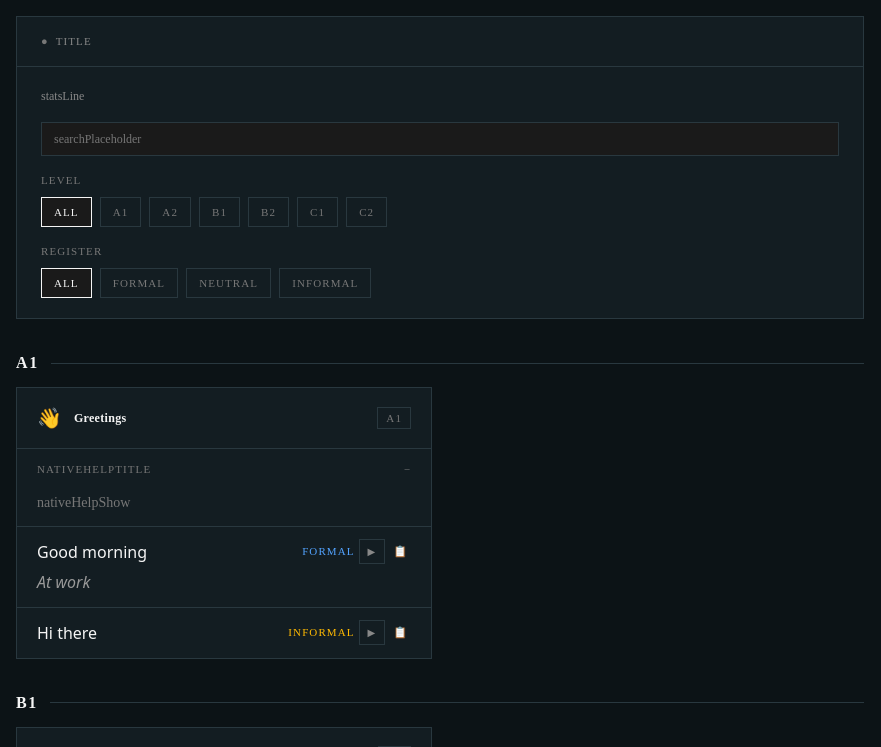
Scenario: PhrasebookPage › offers retry when native help fails, then displays the successful retry
Expected: the text "Greetings" is shown, left=74, top=411, right=126, bottom=425
Click the button "nativeHelpShow": (84, 502) left=37, top=492, right=130, bottom=512
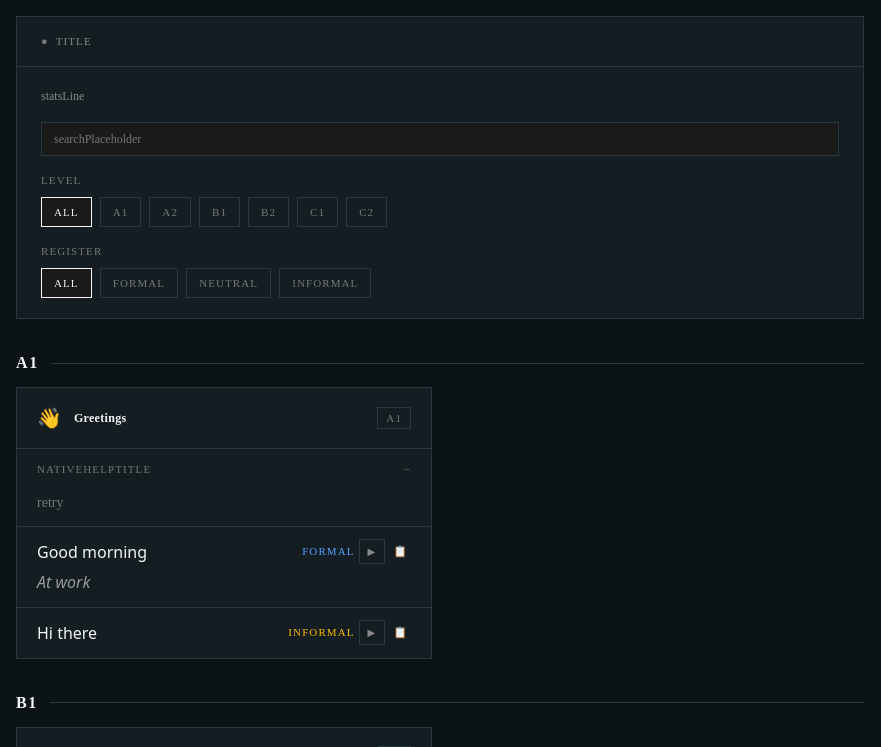
Click the button "retry": (50, 502) left=37, top=492, right=63, bottom=512
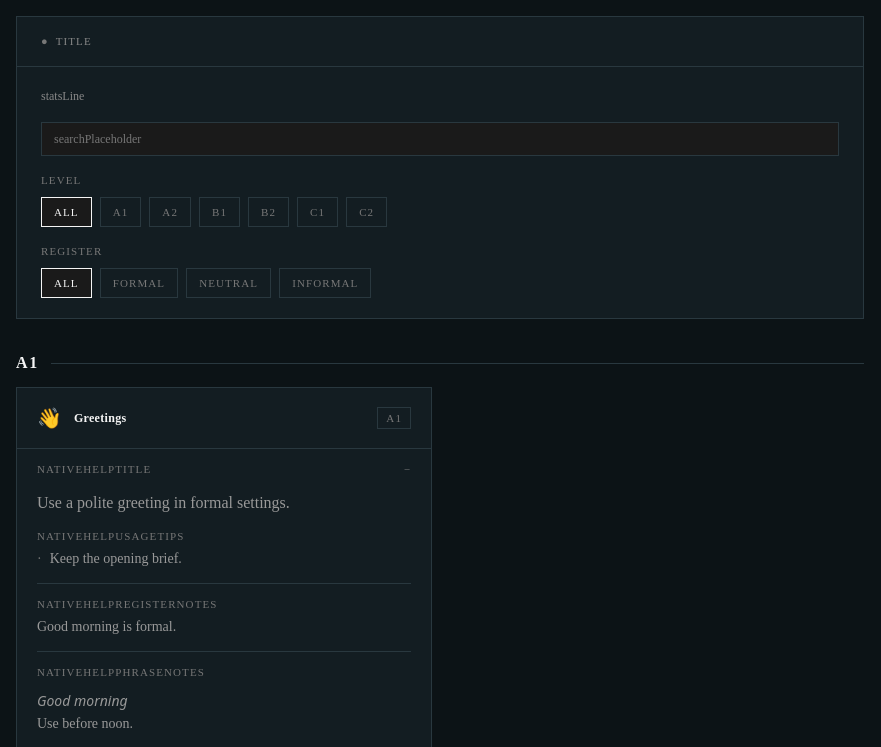
Expected: the text "Use a polite greeting in formal settings." is shown, left=37, top=494, right=290, bottom=510
